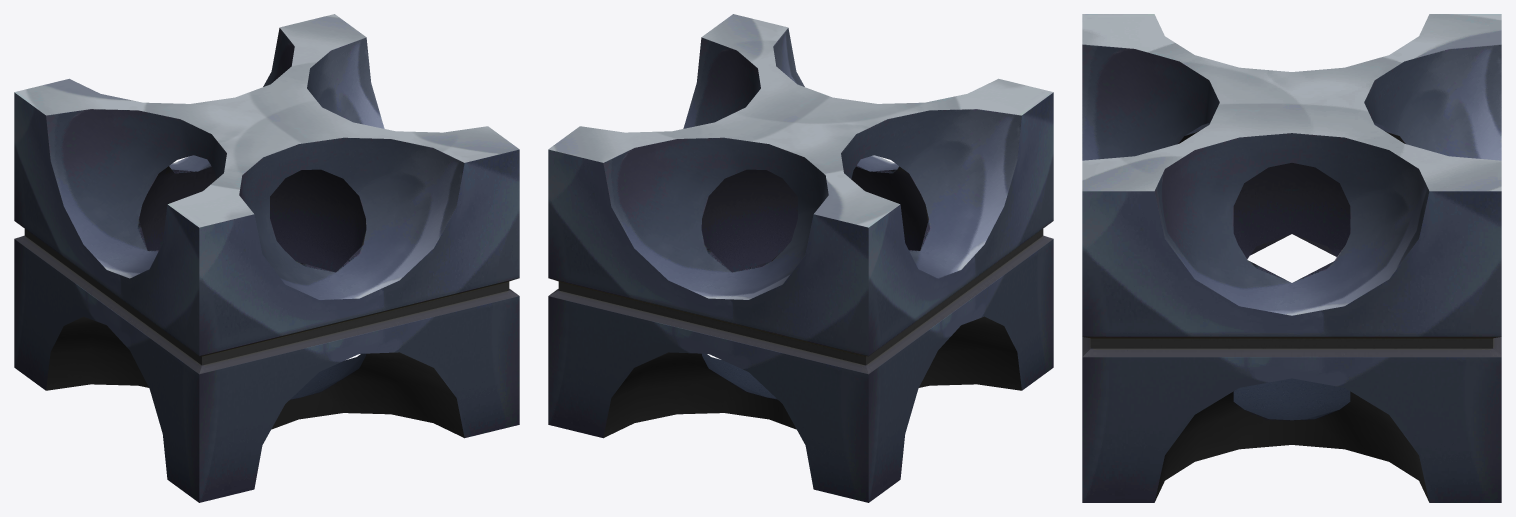
Rendered from trap_208_mufrst1.fbx.
The picture shows the model from 3 angles, left to right: view 1: azimuth 30°, elevation 25°; view 2: azimuth 150°, elevation 25°; view 3: azimuth 270°, elevation 25°; orthographic projection. The views are drawn at different scales.
Visible parts, largest first — view 1: trap_208_mufrst1; view 2: trap_208_mufrst1; view 3: trap_208_mufrst1.
Boxes of the visible parts, left/top/right/bottom form: trap_208_mufrst1: left=14, top=14, right=519, bottom=502; trap_208_mufrst1: left=548, top=14, right=1053, bottom=502; trap_208_mufrst1: left=1082, top=14, right=1501, bottom=502.
Bounding box in the file's own units: 0.9506 × 0.7802 × 0.9506.
1 material, 1 textured.
